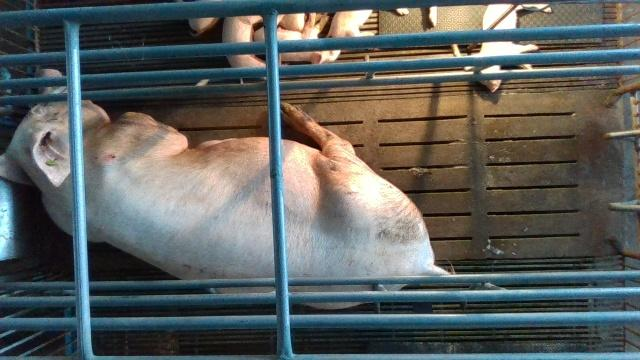piglet: (463, 4, 554, 92), (255, 13, 340, 64), (223, 15, 265, 68), (326, 10, 374, 40)
sow-sleep: (0, 66, 454, 312)
